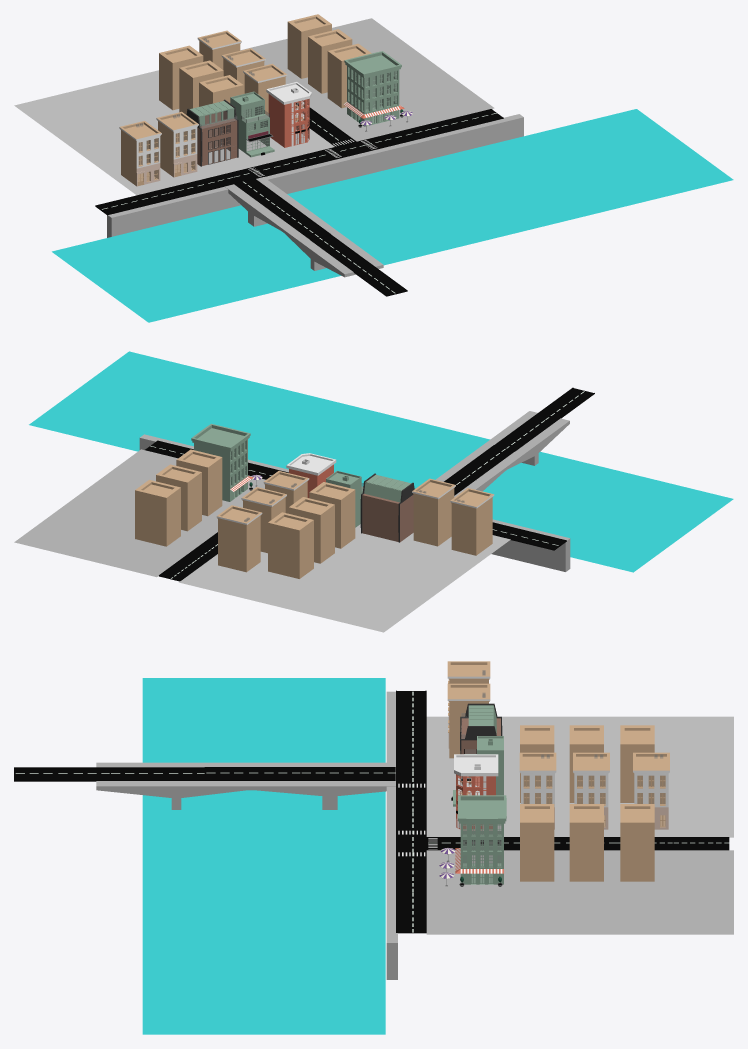
The model's file is city.glb.
3 views of the same model, one above another, from view 1: azimuth 30°, elevation 25°; view 2: azimuth 150°, elevation 25°; view 3: azimuth 270°, elevation 25° (orthographic). The views are drawn at different scales.
Parts seen in each view (by area): view 1: Building_2.002, Building_2.003, Building_2.001, Cube.00777, Building_1, Ground_Asphalt.005, Building_5.001, Building_5, Building_5.002; view 2: Building_2.002, Building_2.003, Building_2.001, Cube.00777, Building_1, Ground_Asphalt.005, Building_5.001; view 3: Building_2.002, Building_2.003, Building_2.001, Cube.00777, Building_1, Ground_Asphalt.005, Building_5.001.
Part boxes in pixels (bbox=[...]): Building_2.002: bbox=[52, 109, 733, 322]; Building_2.003: bbox=[95, 18, 523, 277]; Building_2.001: bbox=[14, 70, 334, 195]; Cube.00777: bbox=[159, 14, 371, 114]; Building_1: bbox=[344, 51, 401, 126]; Ground_Asphalt.005: bbox=[310, 234, 407, 296]; Building_5.001: bbox=[266, 82, 311, 114]; Building_5: bbox=[269, 113, 309, 147]; Building_5.002: bbox=[268, 101, 309, 127]; Building_2.002: bbox=[29, 351, 733, 572]; Building_2.003: bbox=[14, 411, 570, 581]; Building_2.001: bbox=[179, 524, 510, 632]; Cube.00777: bbox=[135, 449, 355, 578]; Building_1: bbox=[191, 423, 250, 501]; Ground_Asphalt.005: bbox=[494, 387, 594, 450]; Building_5.001: bbox=[286, 453, 336, 486]; Building_2.002: bbox=[142, 678, 385, 1034]; Building_2.003: bbox=[96, 661, 733, 979]; Building_2.001: bbox=[426, 716, 733, 837]; Cube.00777: bbox=[520, 725, 654, 881]; Building_1: bbox=[458, 795, 506, 884]; Ground_Asphalt.005: bbox=[14, 767, 204, 781]; Building_5.001: bbox=[454, 754, 498, 789].
Size of the model in its own units: 149 by 20.27 by 127.
35 materials, 1 textured.
